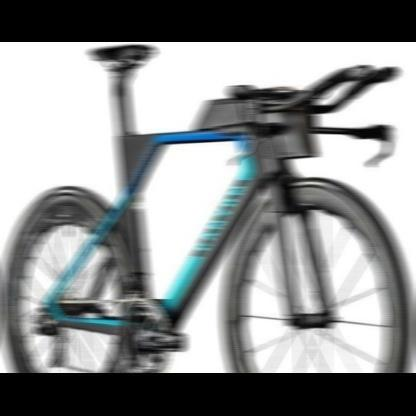Bicycle: (0, 41, 414, 345)
